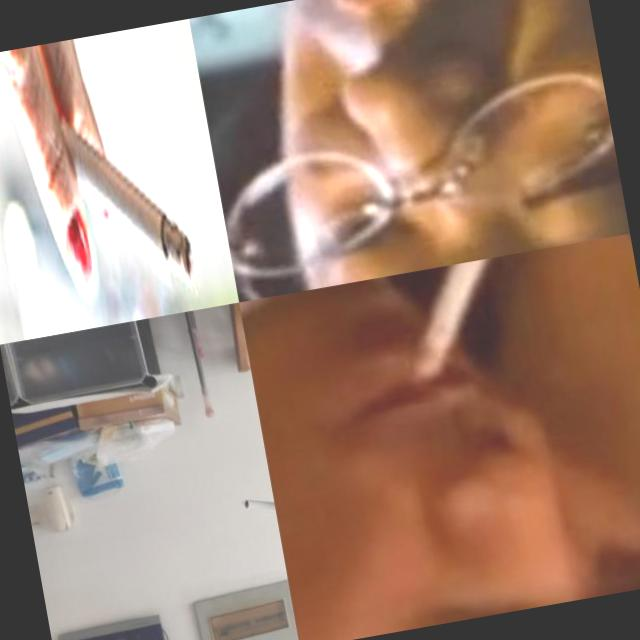cigarette: (34, 84, 200, 312), (389, 250, 558, 393), (243, 494, 277, 524)
